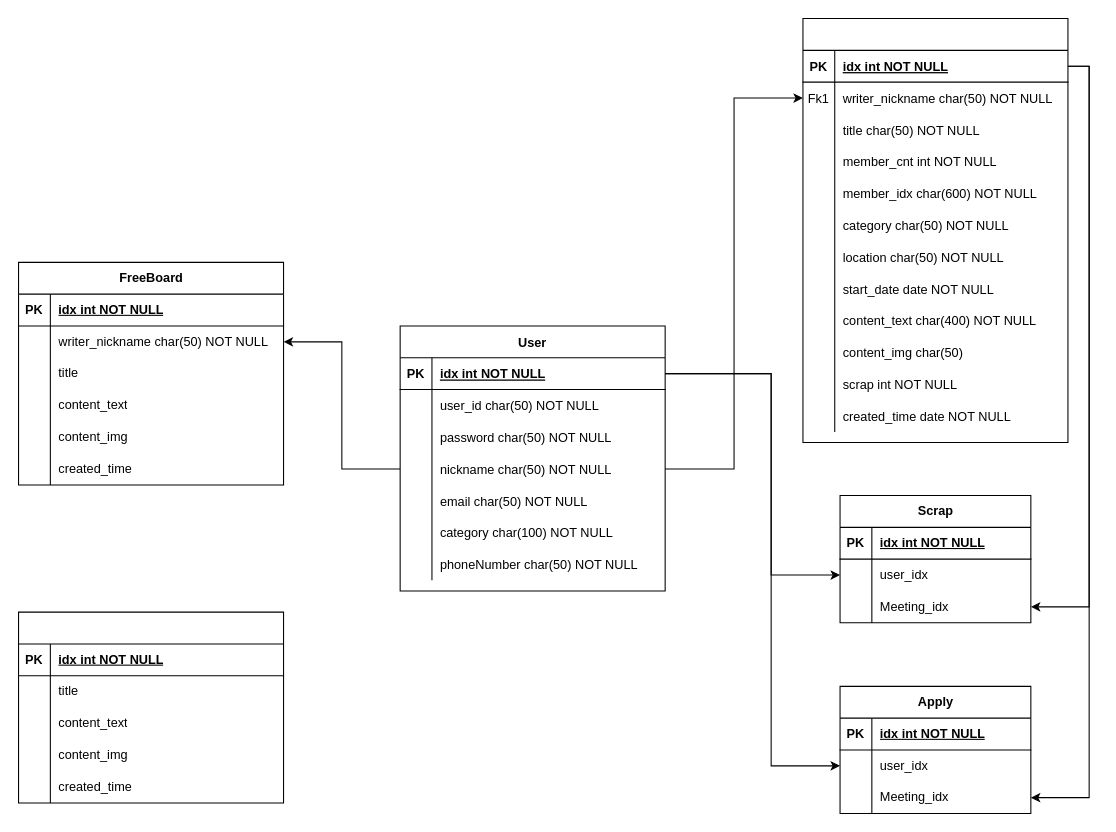
This 1116x832 diagram has some shape labels left out. Each missing label, with the box of its shape:
Meeting: (802, 17, 1068, 443)
Notification: (17, 611, 284, 803)
